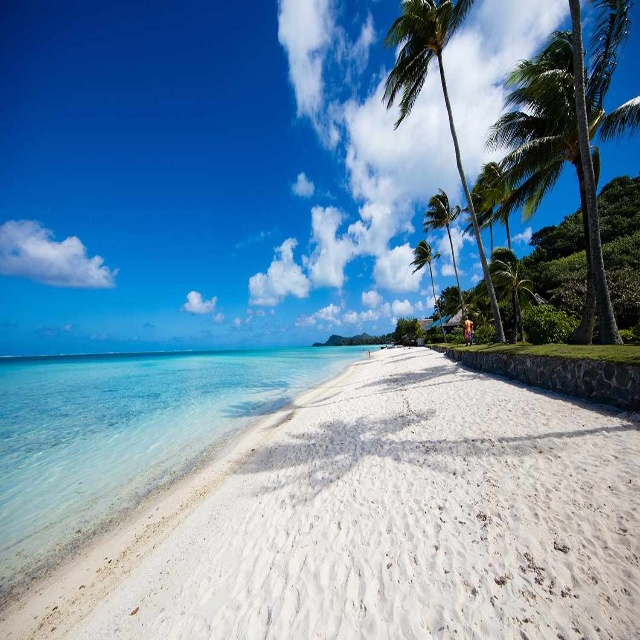linhaEspraiamento: (3, 395, 312, 621), (276, 353, 374, 410), (313, 348, 400, 376)
